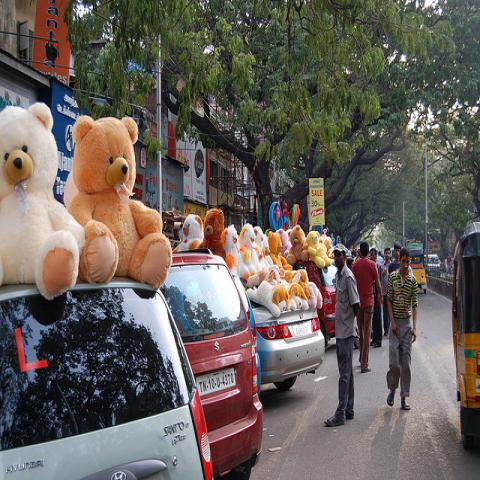car: (1, 284, 212, 471), (162, 252, 264, 473), (252, 305, 325, 378), (298, 262, 338, 345)
